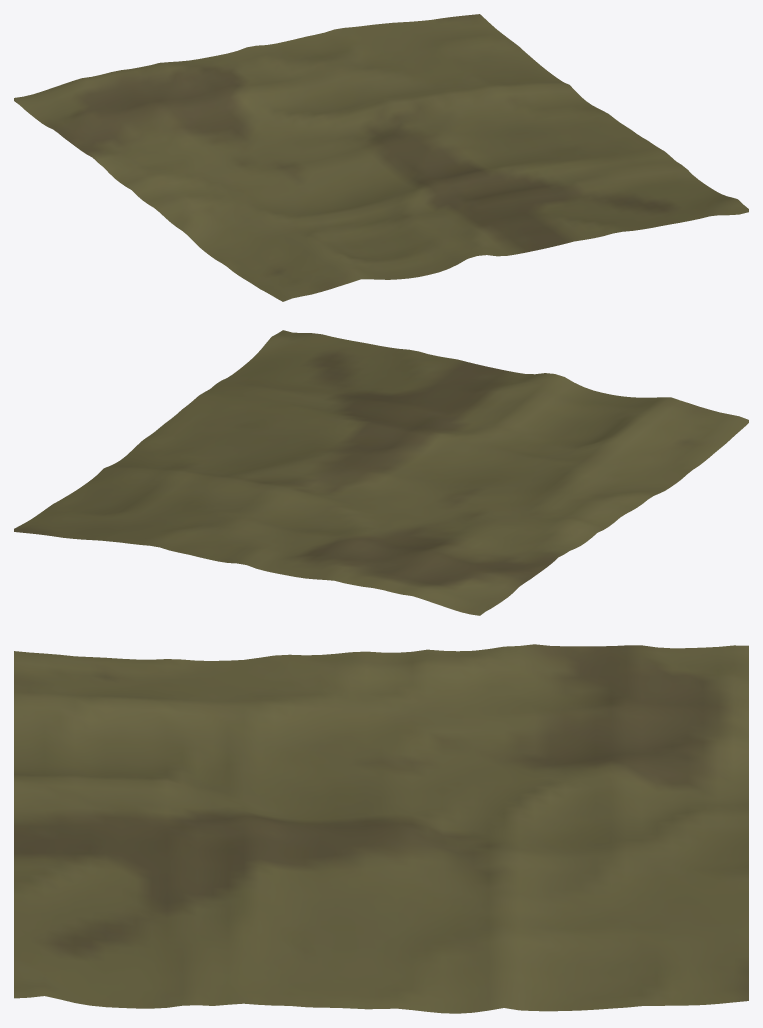
Rendered from land_m_05_09.glb.
The picture shows the model from 3 angles, top to bottom: view 1: azimuth 30°, elevation 25°; view 2: azimuth 150°, elevation 25°; view 3: azimuth 270°, elevation 25°; orthographic projection. The views are drawn at different scales.
Visible parts, largest first — view 1: land_m_05_09; view 2: land_m_05_09; view 3: land_m_05_09.
Boxes of the visible parts, x1=… form: land_m_05_09: x1=14, y1=14, x2=748, y2=301; land_m_05_09: x1=14, y1=330, x2=748, y2=615; land_m_05_09: x1=14, y1=644, x2=748, y2=1013.
Size of the model in its own units: 960 by 91.94 by 960.
